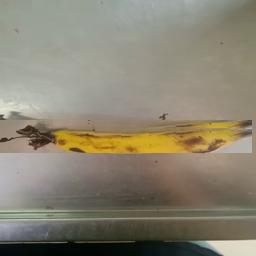Banana Semifresh: (0, 126, 252, 153)
